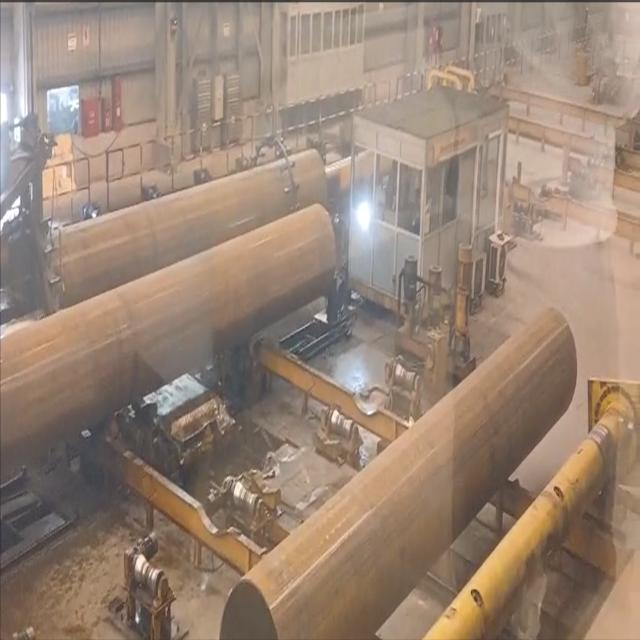warningzone: (78, 324, 418, 573)
